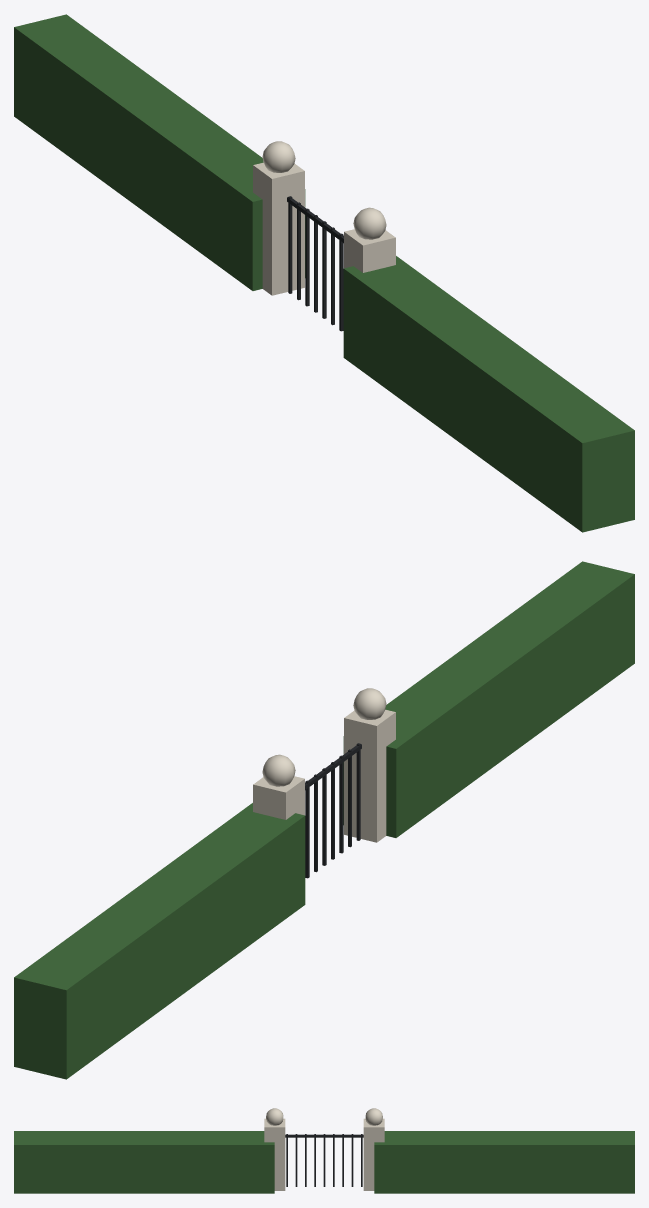
Rendered from hedge-15.obj.
3 renders of one model, top to bottom at view 1: azimuth 30°, elevation 25°; view 2: azimuth 150°, elevation 25°; view 3: azimuth 270°, elevation 25°, orthographic. The views are drawn at different scales.
Visible parts, largest first — view 1: part2, part1, part3, part5, part6, part4; view 2: part1, part2, part5, part3, part4, part6; view 3: part1, part2, part3, part5, part16.nocast, part4, part6, part8.nocast, part11.nocast, part14.nocast.
Part boxes in pixels (left/top/right/bottom): part2: left=343, top=256, right=634, bottom=532; part1: left=14, top=14, right=305, bottom=290; part3: left=253, top=162, right=304, bottom=295; part5: left=344, top=229, right=395, bottom=272; part6: left=353, top=207, right=386, bottom=239; part4: left=262, top=141, right=295, bottom=172; part1: left=14, top=803, right=305, bottom=1079; part2: left=343, top=561, right=634, bottom=837; part5: left=344, top=709, right=395, bottom=842; part3: left=253, top=776, right=304, bottom=819; part4: left=262, top=754, right=295, bottom=786; part6: left=353, top=688, right=386, bottom=719; part1: left=374, top=1131, right=634, bottom=1193; part2: left=14, top=1131, right=274, bottom=1193; part3: left=363, top=1118, right=384, bottom=1190; part5: left=264, top=1118, right=285, bottom=1190; part16.nocast: left=285, top=1134, right=363, bottom=1137; part4: left=365, top=1108, right=382, bottom=1125; part6: left=266, top=1108, right=283, bottom=1125; part8.nocast: left=351, top=1134, right=353, bottom=1186; part11.nocast: left=323, top=1134, right=325, bottom=1186; part14.nocast: left=295, top=1134, right=297, bottom=1186.
Size of the model in its own units: 0.8 by 2.07 by 15.
